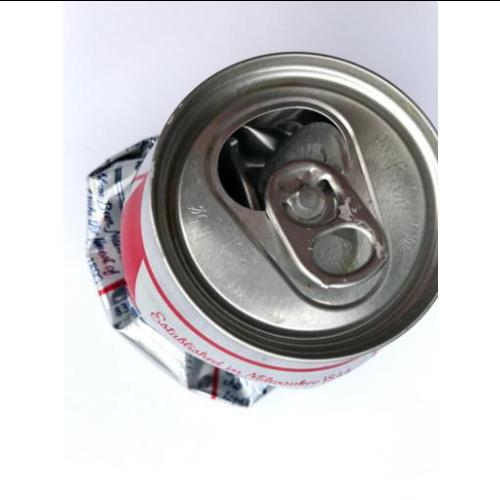metal: (89, 50, 438, 405)
